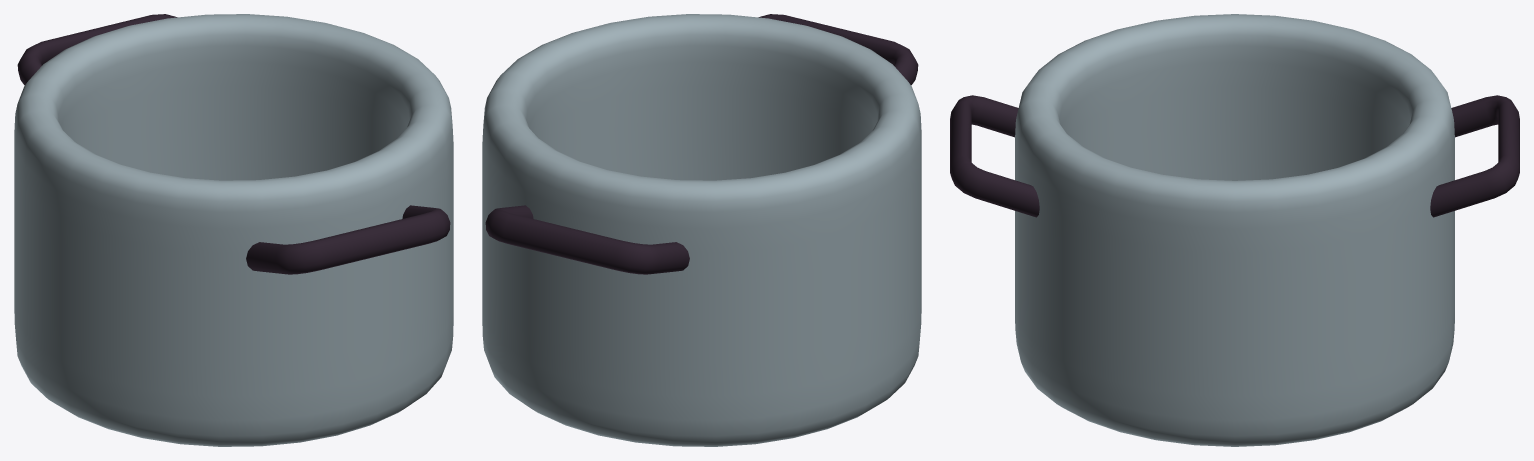
File: small_pot.gltf
3 renders of one model, left to right at view 1: azimuth 30°, elevation 25°; view 2: azimuth 150°, elevation 25°; view 3: azimuth 270°, elevation 25°, orthographic.
Visible parts, largest first — view 1: Circle.003, Plane.002; view 2: Circle.003, Plane.002; view 3: Circle.003, Plane.002.
Part boxes in pixels (left/top/right/bottom): Circle.003: left=14, top=14, right=453, bottom=446; Plane.002: left=17, top=14, right=450, bottom=274; Circle.003: left=482, top=14, right=921, bottom=446; Plane.002: left=485, top=14, right=918, bottom=274; Circle.003: left=1015, top=14, right=1454, bottom=446; Plane.002: left=950, top=95, right=1519, bottom=217.
Bounding box in the file's own units: 1.43 × 0.955 × 1.86.
